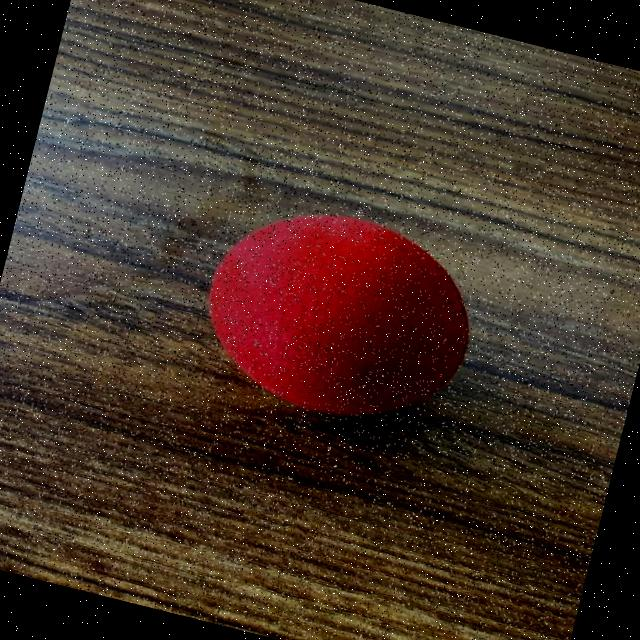ping-pong-ball: (187, 186, 493, 442)
